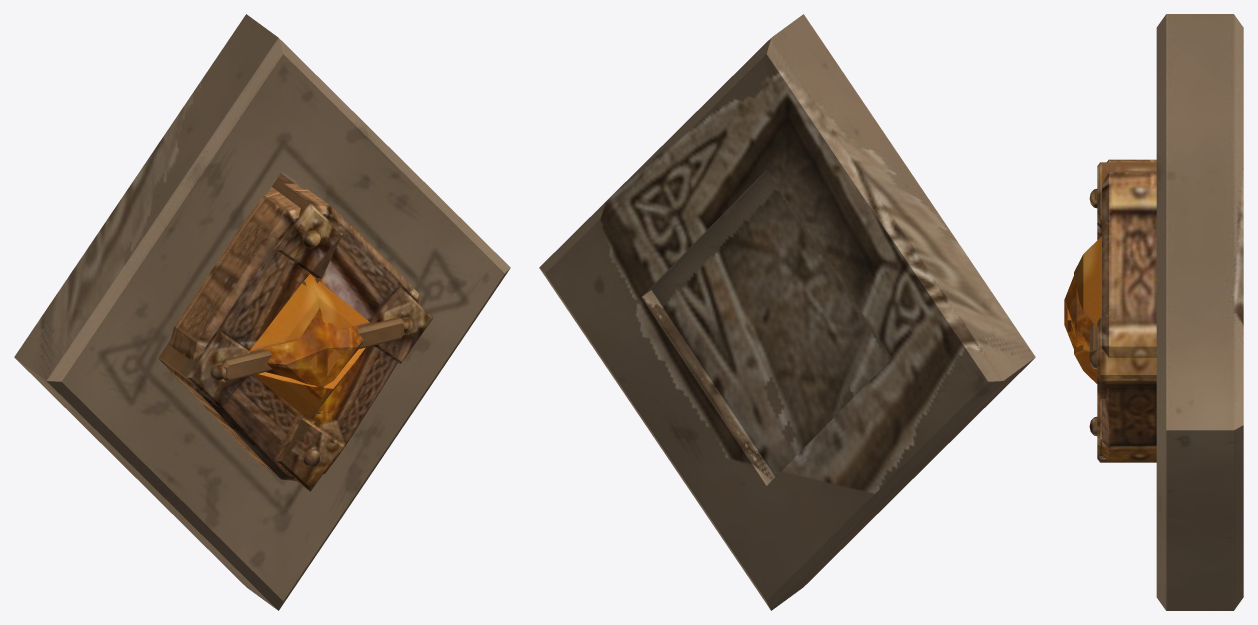
File: lf_artifact_amber_crystal_pre_v2.glb
The picture shows the model from 3 angles, left to right: view 1: azimuth 30°, elevation 25°; view 2: azimuth 150°, elevation 25°; view 3: azimuth 270°, elevation 25°; orthographic projection. The views are drawn at different scales.
Visible parts, largest first — view 1: lf_artifact_amber_crystal_socket_LOD0, lf_artifact_amber_crystal_v1_LOD0, lf_artifact_amber_crystal_v2_LOD0; view 2: lf_artifact_amber_crystal_socket_LOD0; view 3: lf_artifact_amber_crystal_socket_LOD0, lf_artifact_amber_crystal_v1_LOD0, lf_artifact_amber_crystal_v2_LOD0.
Boxes of the visible parts, x1=… form: lf_artifact_amber_crystal_socket_LOD0: x1=14, y1=14, x2=510, y2=610; lf_artifact_amber_crystal_v1_LOD0: x1=158, y1=173, x2=433, y2=491; lf_artifact_amber_crystal_v2_LOD0: x1=222, y1=273, x2=404, y2=420; lf_artifact_amber_crystal_socket_LOD0: x1=539, y1=14, x2=1035, y2=610; lf_artifact_amber_crystal_socket_LOD0: x1=1156, y1=14, x2=1243, y2=610; lf_artifact_amber_crystal_v1_LOD0: x1=1064, y1=159, x2=1156, y2=462; lf_artifact_amber_crystal_v2_LOD0: x1=1074, y1=236, x2=1101, y2=383.
Size of what is drawn, in the model's own units: 0.2314 by 0.273 by 0.0742.
Materials: 1 (1 with a texture image).
